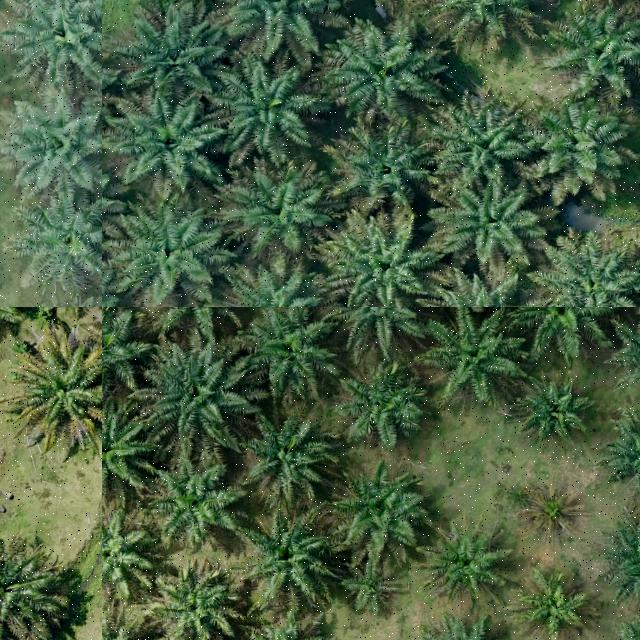Ganoderma: (527, 489, 573, 530)
